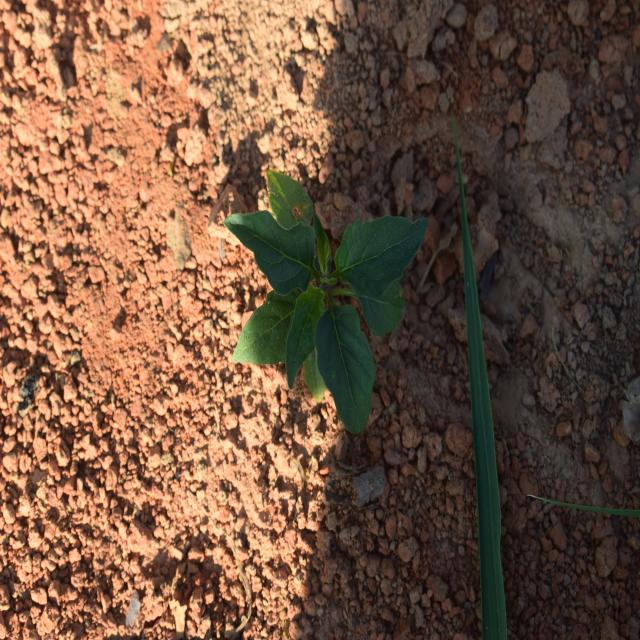Black_nightshade: (240, 195, 412, 416)
